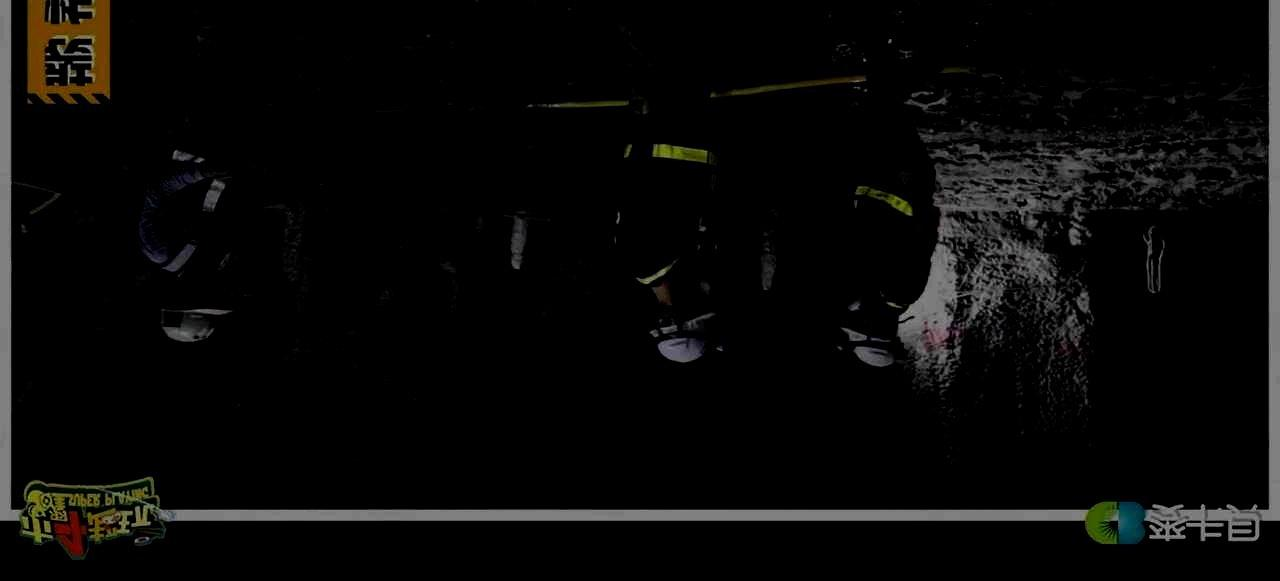helmet: (160, 270, 232, 341), (649, 290, 717, 363), (842, 306, 899, 367)
